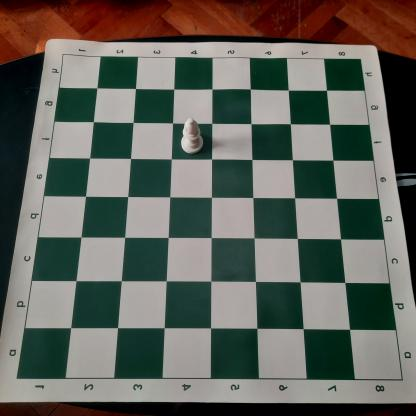white-bishop: (178, 116, 204, 155)
